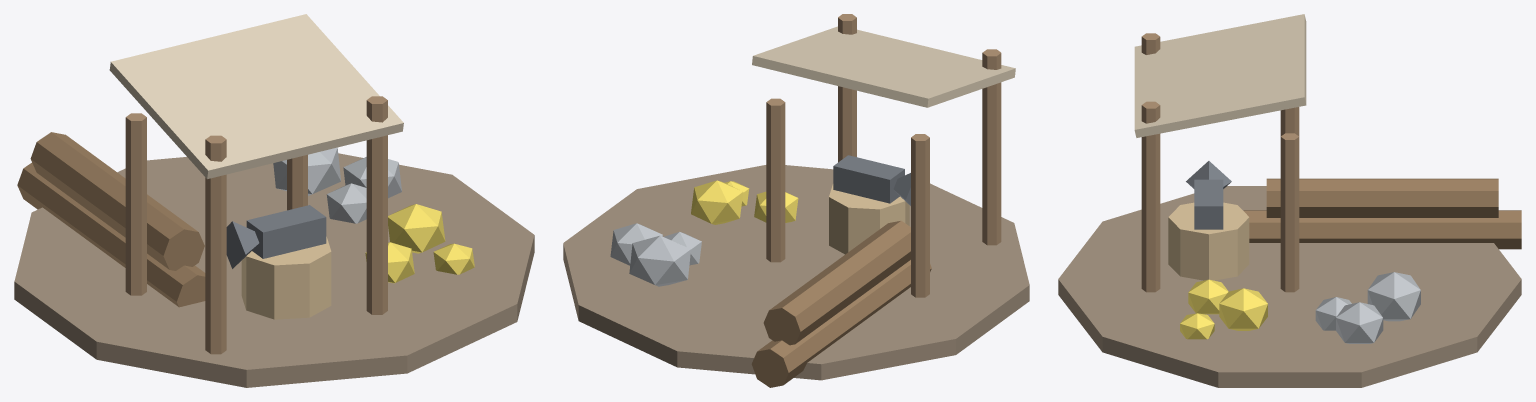
File: storage_pit.glb
3 renders of one model, left to right at view 1: azimuth 30°, elevation 25°; view 2: azimuth 150°, elevation 25°; view 3: azimuth 270°, elevation 25°, orthographic. The views are drawn at different scales.
Parts seen in each view (by area): view 1: Ground, Canopy, AnvilStump, Log_4, Log_3, ShelterPost_0, ShelterPost_1, ShelterPost_2, Log_0, Anvil, Log_2, GoldOre_0 (+8 smaller); view 2: Ground, Canopy, Log_3, Log_2, ShelterPost_0, AnvilStump, ShelterPost_3, Log_4, ShelterPost_2, StoneOre_0, Anvil, GoldOre_0 (+6 smaller); view 3: Ground, Canopy, Log_3, AnvilStump, Log_4, Log_0, ShelterPost_1, ShelterPost_3, Log_1, Log_2, StoneOre_0, GoldOre_0 (+7 smaller).
Part boxes in pixels (x1=…): Ground: x1=14, y1=153, x2=534, y2=387; Canopy: x1=109, y1=14, x2=403, y2=179; AnvilStump: x1=241, y1=236, x2=331, y2=319; Log_4: x1=30, y1=132, x2=157, y2=237; Log_3: x1=57, y1=151, x2=204, y2=270; ShelterPost_0: x1=205, y1=135, x2=226, y2=354; ShelterPost_1: x1=366, y1=96, x2=387, y2=314; ShelterPost_2: x1=125, y1=113, x2=146, y2=295; Log_0: x1=71, y1=205, x2=205, y2=307; Anvil: x1=246, y1=205, x2=326, y2=258; Log_2: x1=17, y1=162, x2=125, y2=267; GoldOre_0: x1=388, y1=204, x2=445, y2=253; Ground: x1=563, y1=165, x2=1029, y2=380; Canopy: x1=752, y1=26, x2=1015, y2=107; Log_3: x1=793, y1=220, x2=910, y2=326; Log_2: x1=751, y1=286, x2=883, y2=387; ShelterPost_0: x1=982, y1=49, x2=1001, y2=245; AnvilStump: x1=829, y1=184, x2=909, y2=254; ShelterPost_3: x1=766, y1=98, x2=785, y2=262; Log_4: x1=763, y1=238, x2=894, y2=345; ShelterPost_2: x1=911, y1=134, x2=929, y2=297; StoneOre_0: x1=629, y1=235, x2=690, y2=286; Anvil: x1=833, y1=155, x2=904, y2=203; GoldOre_0: x1=691, y1=180, x2=743, y2=224; Ground: x1=1058, y1=186, x2=1521, y2=387; Canopy: x1=1134, y1=14, x2=1306, y2=137; Log_3: x1=1266, y1=178, x2=1452, y2=217; AnvilStump: x1=1168, y1=202, x2=1249, y2=280; Log_4: x1=1313, y1=178, x2=1498, y2=217; Log_0: x1=1243, y1=210, x2=1428, y2=242; ShelterPost_1: x1=1141, y1=101, x2=1160, y2=292; ShelterPost_3: x1=1280, y1=133, x2=1299, y2=292; Log_1: x1=1299, y1=218, x2=1475, y2=242; Log_2: x1=1337, y1=210, x2=1521, y2=249; StoneOre_0: x1=1367, y1=272, x2=1420, y2=321; GoldOre_0: x1=1219, y1=288, x2=1267, y2=330.
Bounding box in the file's own units: 3.8 × 2.05 × 4.
